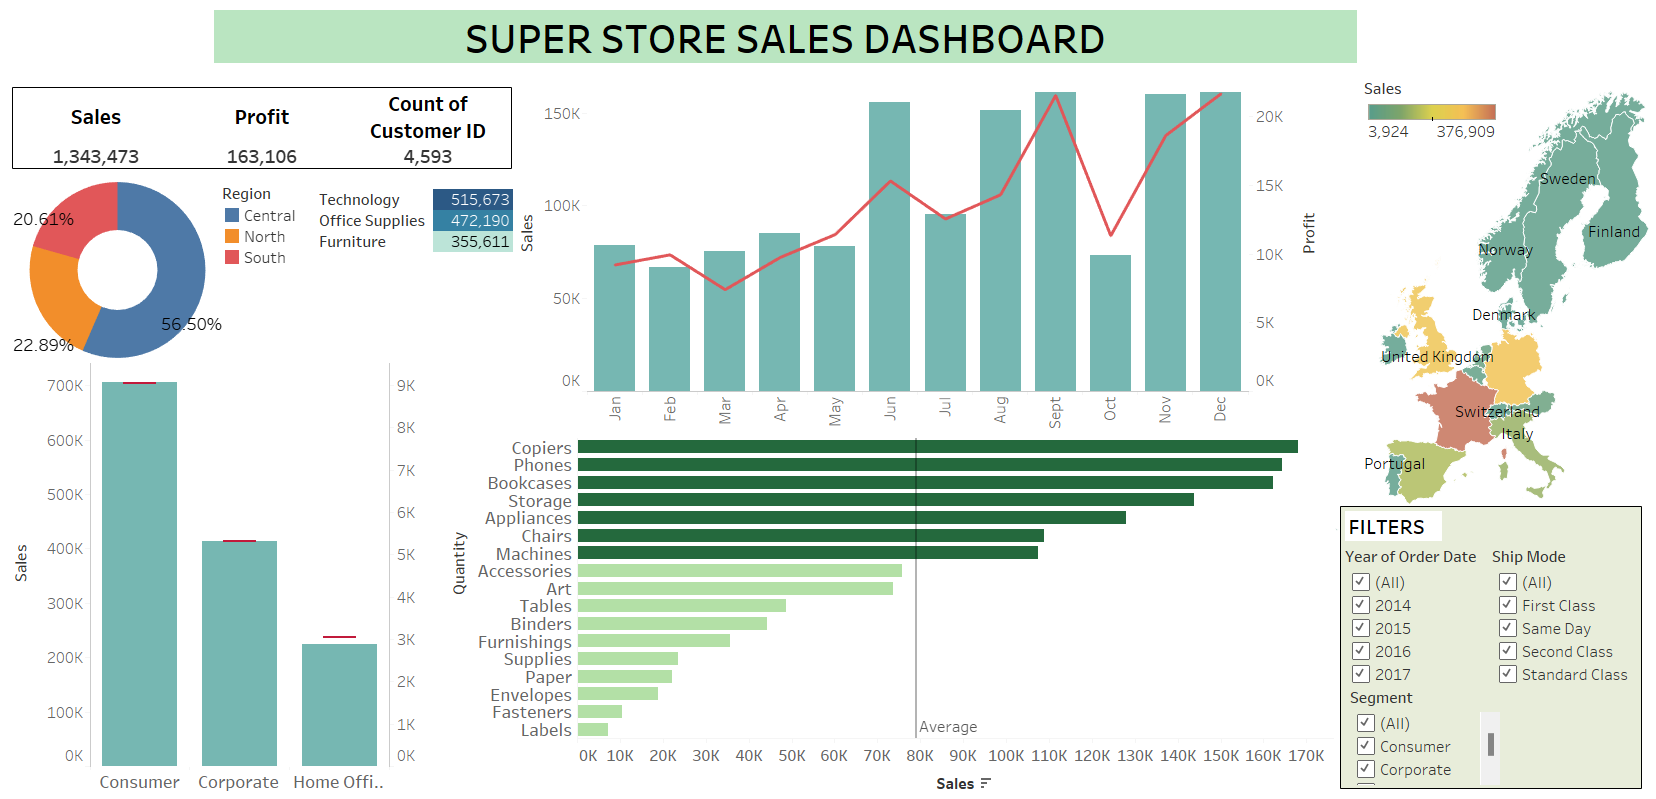

This screenshot's page, from the dashboard's own definition file:
{"tool":"tableau","page":{"name":"Dashboard 1","canvas":[1000,1000],"units":"permille","ordinal":0},"visuals":[{"type":"text","box":[129.8,13.7,689.8,66.2]},{"type":"worksheet","title":"Monthly sales & Profit","mark":"Bar","rows":["Sales","Profit"],"cols":["Order Date"],"box":[307.6,97.4,493.1,441.9]},{"type":"legend","title":"Sales by country","param":"[federated.1u4f15l05x39ci180y5m31tlfvtp].[sum:Sales:qk]","box":[823.6,98.6,82.1,82.4]},{"type":"worksheet","title":"KPI'S","mark":"Automatic","box":[7.8,109.9,301.6,102.4]},{"type":"worksheet","title":"Sales by region","mark":"Pie","rows":["Calculation_104990219072421892","Calculation_104990219072421892"],"box":[7.8,227.2,127.5,222.2]},{"type":"legend","title":"Sales by region","param":"[federated.1u4f15l05x39ci180y5m31tlfvtp].[none:Region:nk]","box":[134.7,229.7,61,123.6]},{"type":"worksheet","title":"Sales by category","mark":"Square","rows":["Category"],"box":[189.7,237.2,131.7,81.2]},{"type":"worksheet","title":"Segment","mark":"Bar","rows":["Sales","Quantity"],"cols":["Segment"],"box":[2.4,454.4,286.1,539.3]},{"type":"legend","title":"Segment","param":"[federated.1u4f15l05x39ci180y5m31tlfvtp].[:Measure Names]","box":[145.4,461.9,82.1,79.9]},{"type":"worksheet","title":"Sales by product","mark":"Automatic","rows":["Sub-Category"],"cols":["Sales"],"box":[276.5,548.1,529,453.2]},{"type":"blank","box":[809.1,633,182.5,353.3]},{"type":"text","box":[812.1,639.2,58.6,37.5]},{"type":"filter","title":"Monthly sales & Profit","param":"[federated.1u4f15l05x39ci180y5m31tlfvtp].[yr:Order Date:ok]","box":[812.1,682.9,79.6,176]},{"type":"filter","title":"Sales by product","param":"[federated.1u4f15l05x39ci180y5m31tlfvtp].[none:Ship Mode:nk]","box":[901.3,682.9,86.2,178.5]},{"type":"filter","title":"Segment","param":"[federated.1u4f15l05x39ci180y5m31tlfvtp].[none:Segment:nk]","box":[815.1,858.9,91,122.4]}]}

Visuals, with their boxes on the dashboard's canvas, which has no fixed pixel size, in thousandths of its width and height (x1, y1, x2, y2). These are canvas units, not pixel positions in the 1656x799 screenshot, which may show the page scaled, cropped or inside an application window:
text: 130/14/820/80
"Monthly sales & Profit" worksheet (Bar marks): 308/97/801/539
"Sales by country" legend: 824/99/906/181
"KPI'S" worksheet: 8/110/309/212
"Sales by region" worksheet (Pie marks): 8/227/135/449
"Sales by region" legend: 135/230/196/353
"Sales by category" worksheet (Square marks): 190/237/321/318
"Segment" worksheet (Bar marks): 2/454/288/994
"Segment" legend: 145/462/228/542
"Sales by product" worksheet: 276/548/806/1001
blank: 809/633/992/986
text: 812/639/871/677
"Monthly sales & Profit" filter: 812/683/892/859
"Sales by product" filter: 901/683/988/861
"Segment" filter: 815/859/906/981
